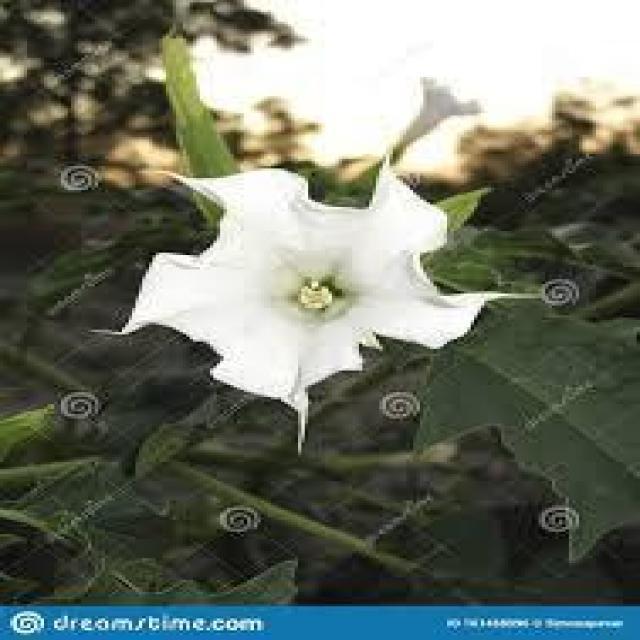organic waste: (110, 156, 513, 419)
